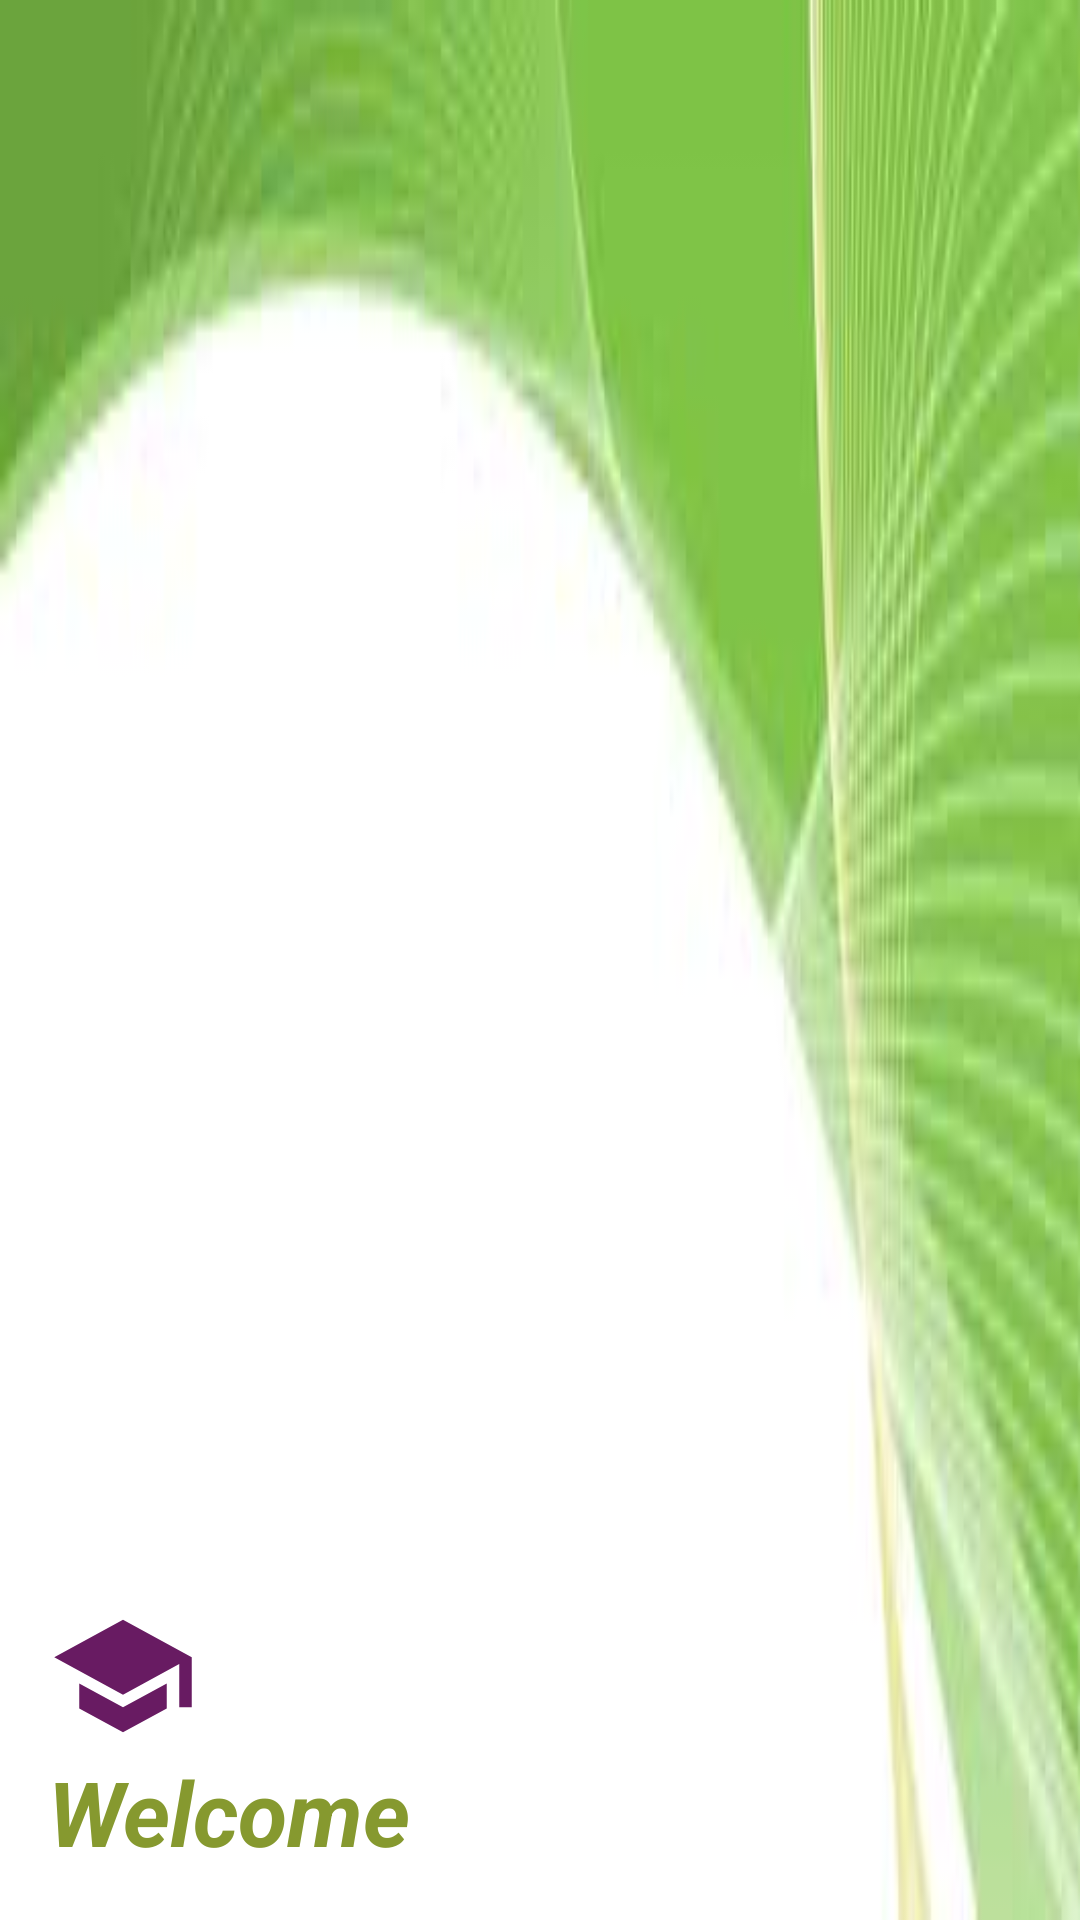

Point at icon controls on the screen. Image size 1080 × 1920, points as (x=x, y=y).
school: (x=123, y=1676)
